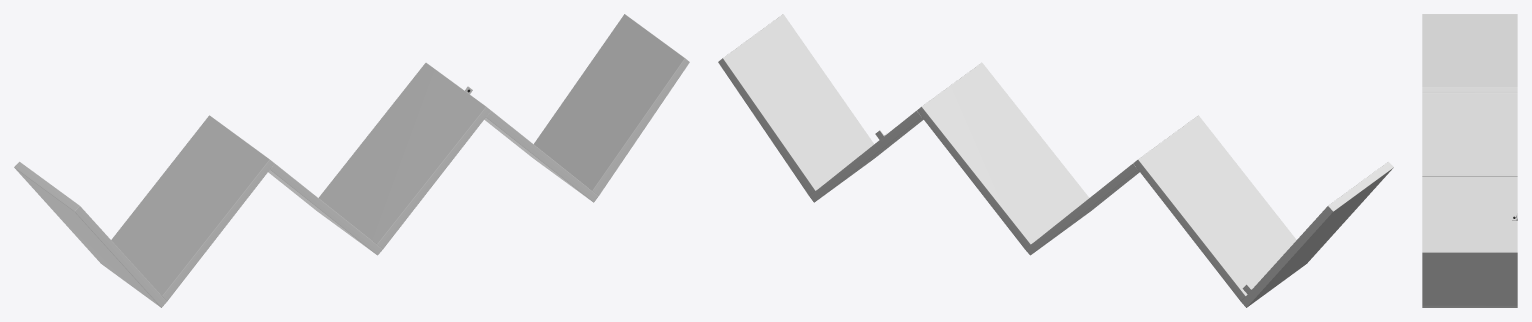
The picture shows the model from 3 angles, left to right: view 1: azimuth 30°, elevation 25°; view 2: azimuth 150°, elevation 25°; view 3: azimuth 270°, elevation 25°; orthographic projection. The views are drawn at different scales.
Visible parts, largest first — view 1: white; view 2: white; view 3: white.
Boxes of the visible parts, x1,y1,x2,y2 form: white: [14, 14, 689, 307]; white: [718, 14, 1393, 307]; white: [1422, 14, 1517, 307].
Bounding box in the file's own units: 1.29 × 0.2451 × 0.22.
Materials: 2 (2 with a texture image).
